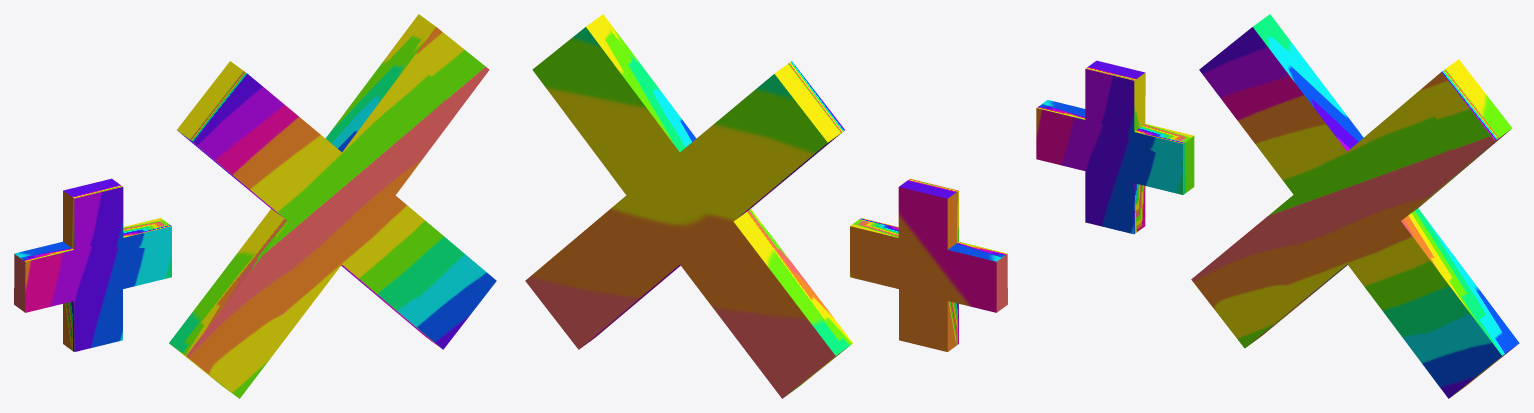
The model's file is Multuiplier.glb.
The picture shows the model from 3 angles, left to right: view 1: azimuth 30°, elevation 25°; view 2: azimuth 150°, elevation 25°; view 3: azimuth 330°, elevation 25°; orthographic projection.
Parts seen in each view (by area): view 1: Cube; view 2: Cube; view 3: Cube.
Boxes of the visible parts, x1,y1,x2,y2 form: Cube: (14,14,496,398); Cube: (525,14,1007,398); Cube: (1036,14,1519,398).
Bounding box in the file's own units: 0.1758 × 0.1165 × 0.0113.
Materials: 1 (1 with a texture image).
